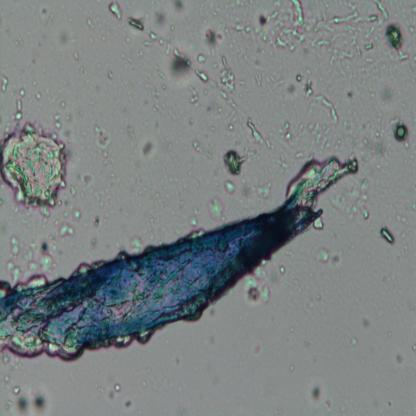Background material: (0, 126, 76, 209), (284, 153, 360, 206), (4, 231, 59, 287), (266, 0, 308, 51), (332, 177, 372, 221), (240, 262, 275, 306), (312, 0, 359, 31), (246, 114, 274, 150), (384, 23, 409, 63), (215, 88, 244, 118), (230, 20, 269, 42), (313, 91, 338, 125), (221, 146, 250, 174), (219, 53, 237, 97), (172, 47, 195, 81), (332, 35, 350, 77), (308, 121, 332, 152), (93, 119, 110, 162), (199, 197, 228, 221), (243, 178, 273, 200), (362, 138, 386, 162), (341, 118, 361, 146), (32, 384, 48, 416), (204, 25, 226, 47), (92, 384, 116, 402), (312, 34, 332, 53), (277, 120, 293, 143), (378, 226, 396, 246), (393, 120, 408, 144), (220, 174, 238, 194), (124, 234, 145, 251), (58, 225, 77, 243), (349, 32, 362, 58), (107, 0, 123, 21), (37, 204, 52, 226), (301, 76, 313, 103), (13, 98, 26, 122), (266, 74, 288, 88), (307, 380, 322, 400), (330, 248, 345, 268), (375, 0, 389, 21), (56, 27, 70, 46), (79, 172, 93, 190), (187, 87, 201, 105), (314, 249, 330, 264), (189, 139, 205, 154), (170, 0, 187, 14), (129, 17, 146, 31), (140, 139, 153, 157), (92, 190, 105, 208), (189, 206, 200, 227), (52, 110, 63, 131), (193, 68, 209, 82), (16, 396, 29, 413), (152, 9, 165, 26), (354, 15, 376, 24), (311, 216, 323, 232), (46, 9, 56, 28), (284, 80, 296, 95), (396, 209, 408, 224), (126, 122, 136, 140), (254, 339, 264, 356), (234, 0, 255, 8), (323, 396, 334, 411), (408, 52, 416, 71), (333, 135, 343, 150), (258, 12, 268, 26), (406, 22, 416, 35), (1, 77, 10, 91), (376, 110, 385, 124), (254, 72, 262, 86), (155, 194, 163, 208), (360, 316, 370, 327), (71, 209, 81, 220), (123, 54, 133, 65), (363, 54, 374, 64), (76, 64, 86, 75), (12, 384, 22, 395), (68, 184, 77, 196), (157, 68, 166, 80), (94, 215, 102, 228), (394, 354, 404, 364), (152, 86, 162, 96), (295, 151, 305, 161), (196, 53, 206, 63), (142, 38, 152, 48), (14, 36, 24, 46), (298, 122, 305, 136), (278, 263, 286, 275), (288, 361, 296, 373), (5, 398, 13, 410), (164, 40, 171, 53), (2, 354, 11, 364), (149, 30, 158, 40), (19, 87, 28, 96), (30, 77, 38, 87), (364, 42, 374, 50), (114, 383, 122, 393), (410, 3, 416, 16), (410, 342, 416, 354), (314, 292, 322, 301), (4, 374, 11, 384), (87, 16, 93, 27), (346, 90, 354, 98), (125, 399, 132, 408), (158, 35, 165, 44), (370, 24, 376, 34), (174, 355, 180, 365), (35, 92, 42, 100), (295, 74, 302, 82), (90, 36, 96, 45), (73, 52, 79, 61), (42, 7, 48, 16), (228, 122, 233, 132), (108, 70, 113, 80), (140, 379, 146, 387), (351, 338, 357, 346), (60, 100, 66, 108), (374, 130, 380, 137), (369, 92, 375, 99), (411, 202, 416, 210), (306, 68, 312, 74), (180, 200, 184, 208), (388, 399, 392, 407), (364, 124, 370, 129), (13, 207, 19, 212), (162, 83, 166, 90), (140, 49, 143, 56), (378, 165, 382, 170), (102, 37, 106, 42)
Cotton: (1, 201, 317, 362)
